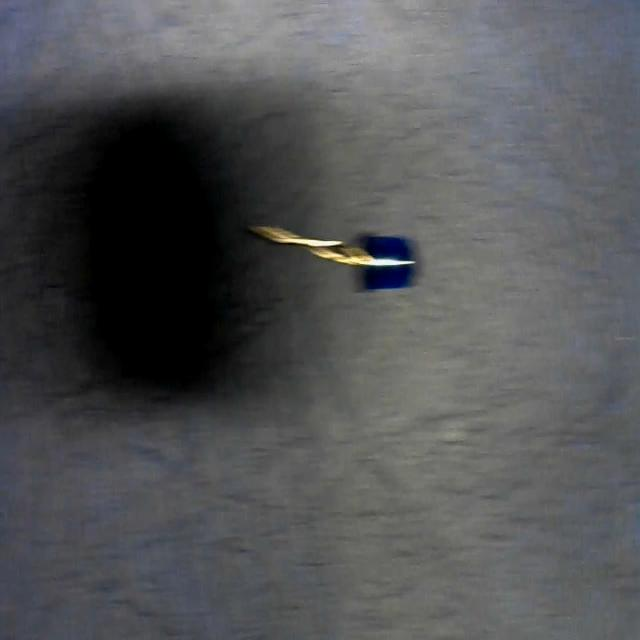LED: (250, 211, 418, 299)
